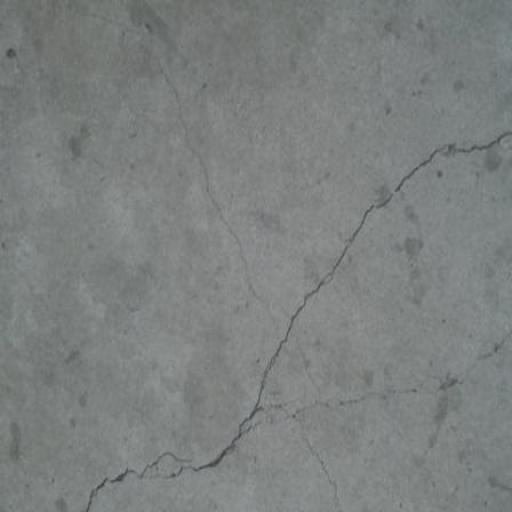spalling: (63, 109, 507, 508)
